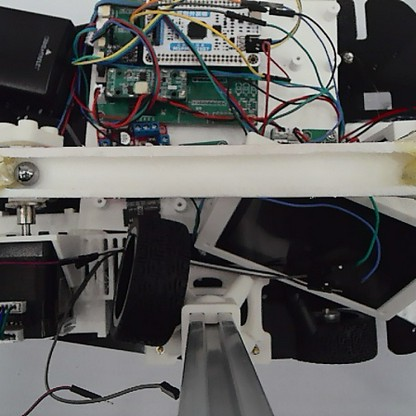ironball: (13, 159, 41, 187)
